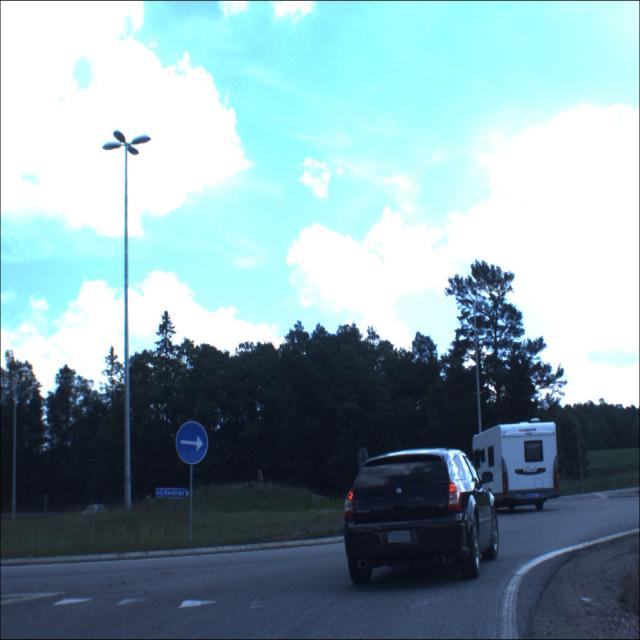Turn Right: (176, 420, 208, 461)
